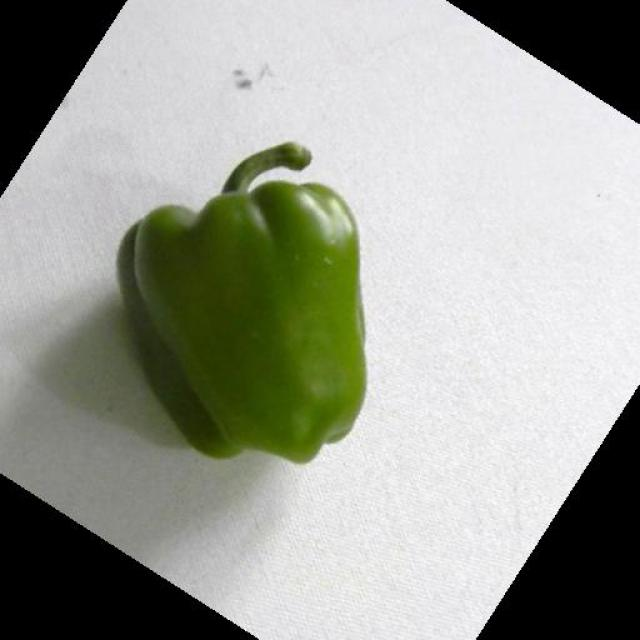Fresh_Capsicum: (123, 161, 373, 451)
